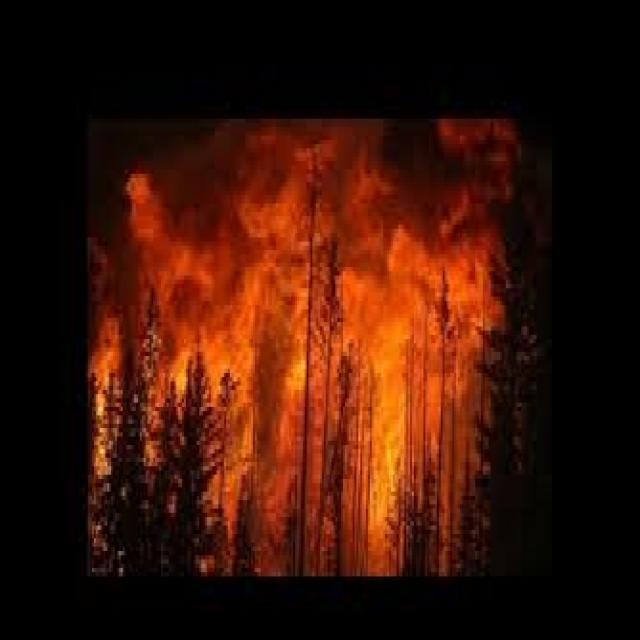Fire: (95, 125, 510, 574)
Smoke: (85, 0, 637, 118), (523, 124, 640, 624), (0, 0, 90, 598)
